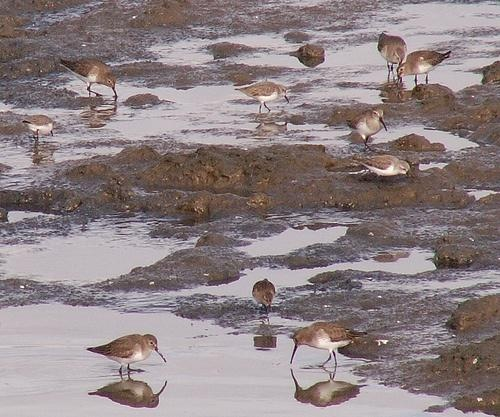bird: (291, 325, 367, 368), (92, 333, 170, 372), (289, 369, 365, 408), (93, 374, 169, 410), (61, 56, 122, 96), (397, 50, 452, 84), (357, 153, 412, 181), (240, 83, 291, 113), (377, 32, 407, 81), (350, 108, 388, 145), (252, 278, 277, 319), (22, 117, 57, 141)
